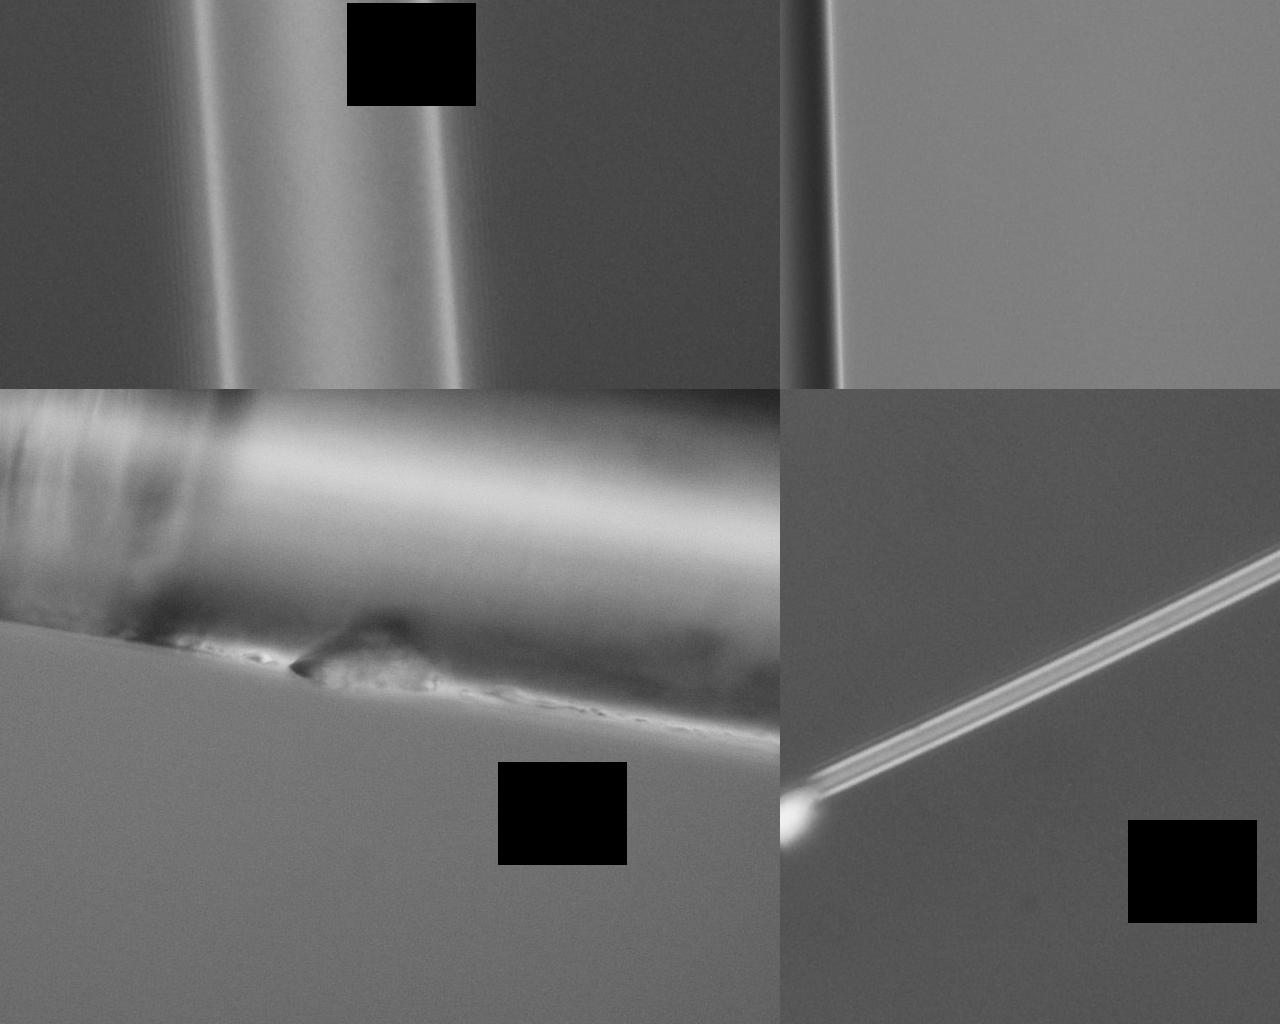fiber: (334, 755, 947, 1024), (1078, 757, 1280, 847)
